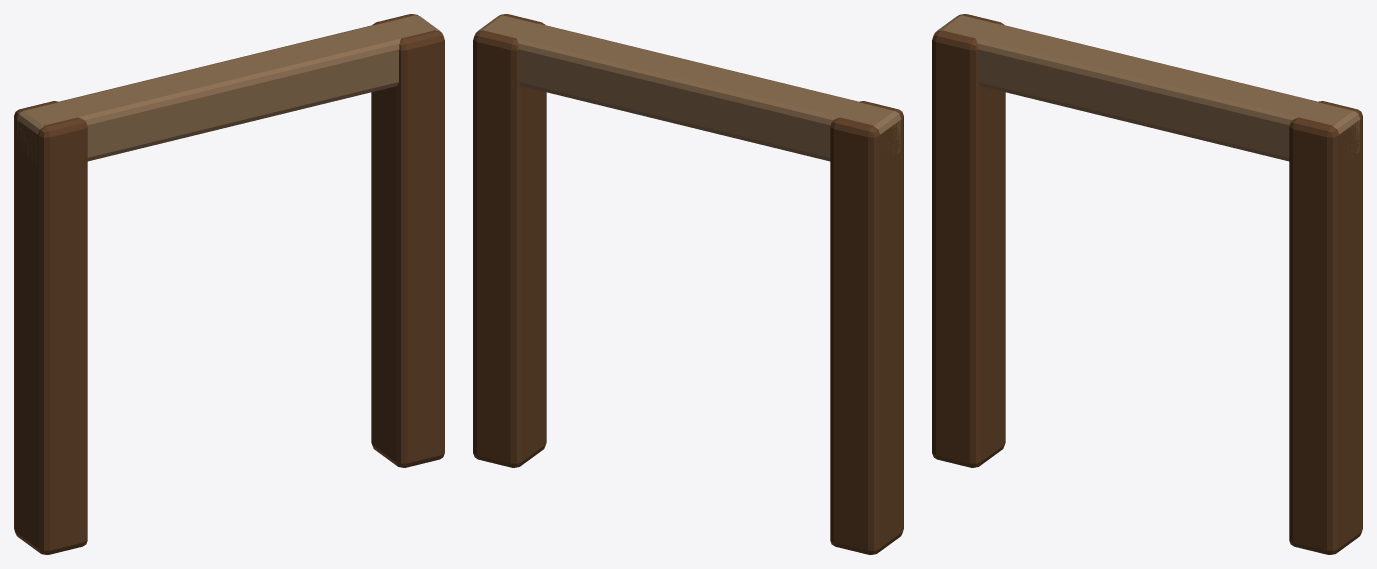
File: gate_frame_1p8.glb
3 views of the same model, side by side, from view 1: azimuth 30°, elevation 25°; view 2: azimuth 150°, elevation 25°; view 3: azimuth 330°, elevation 25° (orthographic).
Visible parts, largest first — view 1: yard_gate_left_post, yard_gate_right_post, yard_gate_header; view 2: yard_gate_left_post, yard_gate_right_post, yard_gate_header; view 3: yard_gate_right_post, yard_gate_left_post, yard_gate_header.
Boxes of the visible parts, left/top/right/bottom form: yard_gate_left_post: left=14, top=101, right=87, bottom=554; yard_gate_right_post: left=371, top=14, right=444, bottom=467; yard_gate_header: left=17, top=15, right=439, bottom=165; yard_gate_left_post: left=830, top=101, right=903, bottom=554; yard_gate_right_post: left=473, top=14, right=546, bottom=467; yard_gate_header: left=478, top=15, right=900, bottom=161; yard_gate_right_post: left=1289, top=101, right=1362, bottom=554; yard_gate_left_post: left=932, top=14, right=1005, bottom=467; yard_gate_header: left=937, top=15, right=1359, bottom=161.
Size of the model in its own units: 2.03 by 2.05 by 0.28.
